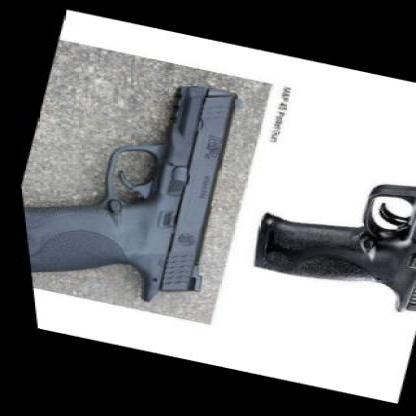pistol: (4, 53, 266, 314), (220, 84, 412, 319)
